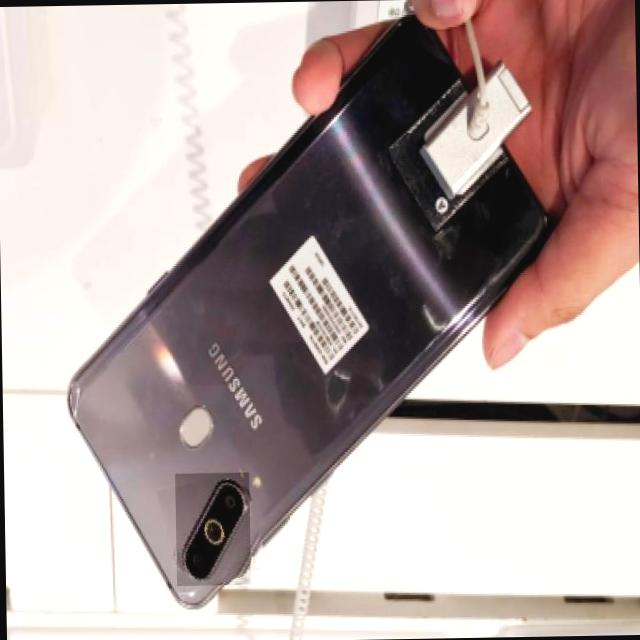lens_back: (214, 486, 242, 518), (184, 544, 211, 574)
phone: (58, 9, 557, 612)
